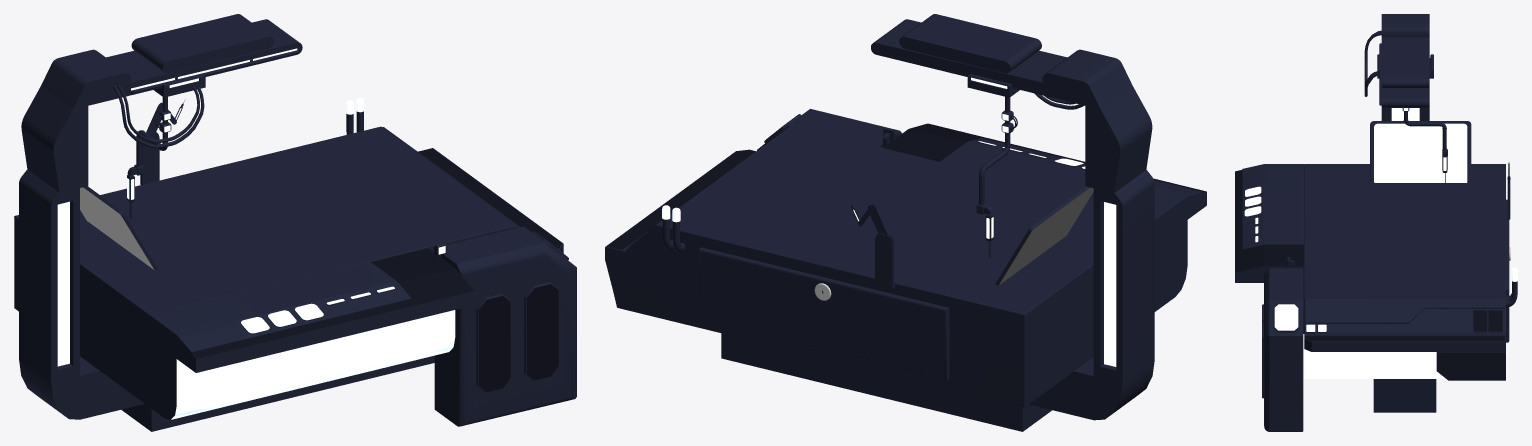
The model's file is examintion taple.fbx.
3 views of the same model, side by side, from view 1: azimuth 30°, elevation 25°; view 2: azimuth 150°, elevation 25°; view 3: azimuth 270°, elevation 25° (orthographic). The views are drawn at different scales.
Visible parts, largest first — view 1: body, holder, side_part, Cube8, laser_controler_0006:pCube5, laser_controler_0006:pCube13, wire1, Cube9, wire, laser_controler_0006:pCube17; view 2: body, holder, laser_controler_0006:pCube3, Cube8, laser_controler_0006:pCube5, side_part, laser_controler_0006:pCube13, Cube9, laser_controler_0006:pCube17; view 3: body, side_part, laser_controler_0006:pCube6, holder, Cube8, laser_controler_0006:pCube5, laser_controler_0006:pCube17.
Boxes of the visible parts, <box> form: body: <box>14,126,563,431</box>; holder: <box>19,19,302,419</box>; side_part: <box>434,226,576,426</box>; Cube8: <box>131,14,273,73</box>; laser_controler_0006:pCube5: <box>80,186,157,270</box>; laser_controler_0006:pCube13: <box>140,131,159,184</box>; wire1: <box>113,85,204,148</box>; Cube9: <box>154,74,205,97</box>; wire: <box>117,85,199,143</box>; laser_controler_0006:pCube17: <box>127,130,143,218</box>; body: <box>605,123,1206,431</box>; holder: <box>871,19,1154,420</box>; laser_controler_0006:pCube3: <box>701,252,944,377</box>; Cube8: <box>899,14,1041,73</box>; laser_controler_0006:pCube5: <box>995,186,1093,285</box>; side_part: <box>757,109,901,150</box>; laser_controler_0006:pCube13: <box>875,233,895,288</box>; Cube9: <box>967,74,1019,97</box>; laser_controler_0006:pCube17: <box>976,165,993,257</box>; body: <box>1235,164,1509,412</box>; side_part: <box>1262,268,1303,431</box>; laser_controler_0006:pCube6: <box>1374,123,1467,182</box>; holder: <box>1379,14,1429,120</box>; Cube8: <box>1382,42,1428,87</box>; laser_controler_0006:pCube5: <box>1370,121,1471,183</box>; laser_controler_0006:pCube17: <box>1440,122,1447,185</box>.
Size of the model in its own units: 11.08 by 8.21 by 7.83.
